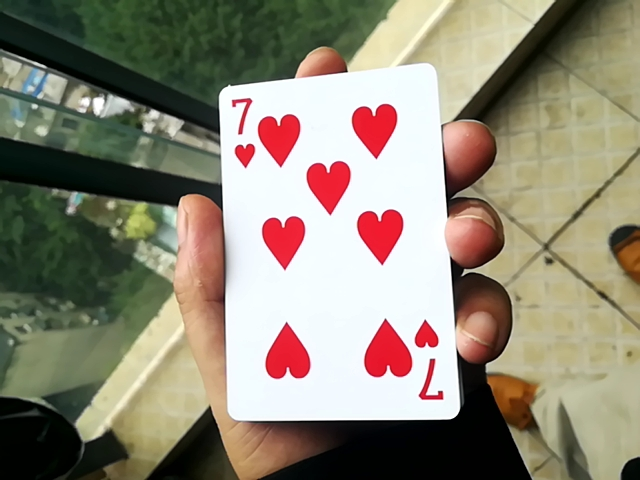hx 7: (214, 53, 451, 429)
